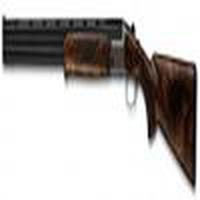gun: (3, 18, 196, 150)
